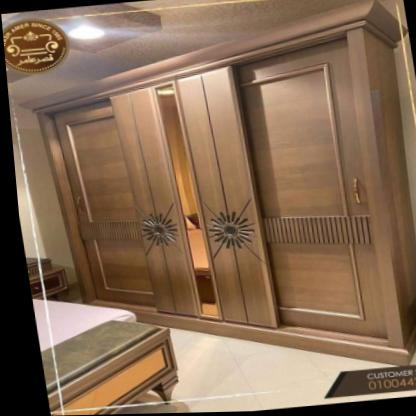Ceramic floor: (103, 330, 416, 415)
Closet: (20, 2, 416, 368)
